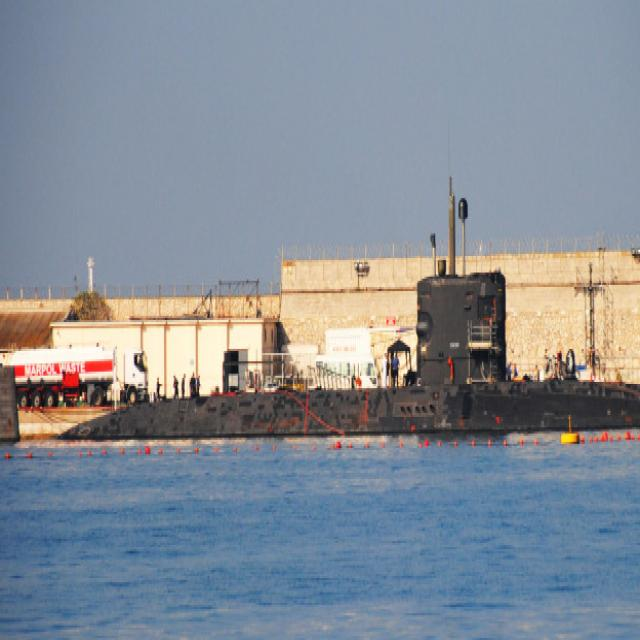submarine: (1, 255, 640, 445)
